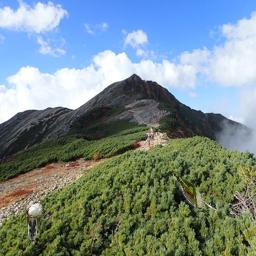Cuckoo: (172, 170, 205, 210), (25, 200, 44, 240)
